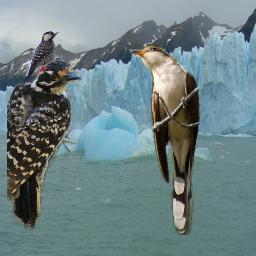Cuckoo: (130, 45, 201, 235)
Woodpecker: (7, 57, 82, 231), (21, 28, 64, 83)
